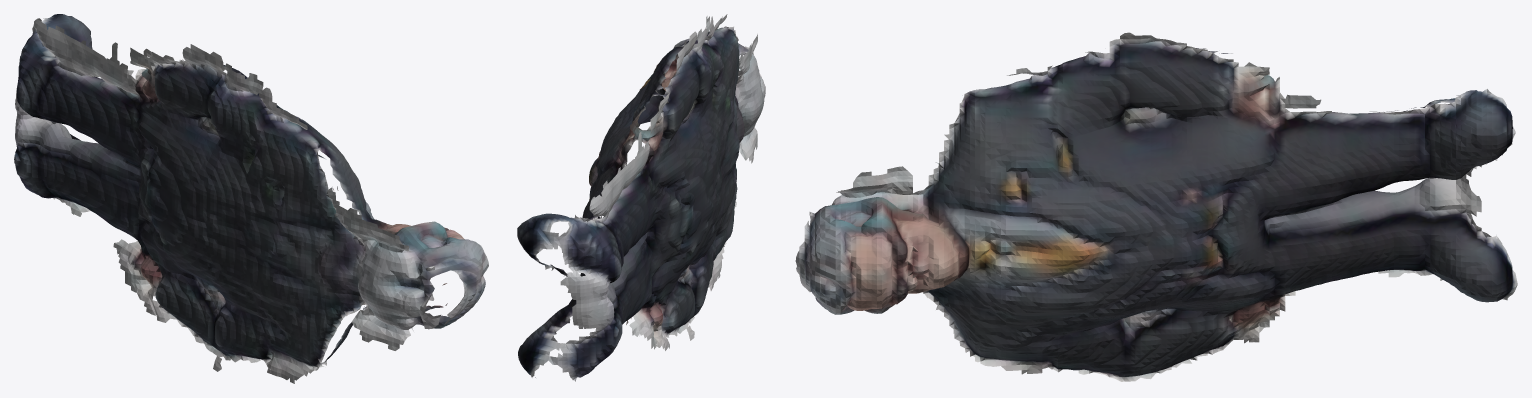
Rendered from dean.glb.
The picture shows the model from 3 angles, left to right: view 1: azimuth 30°, elevation 25°; view 2: azimuth 150°, elevation 25°; view 3: azimuth 270°, elevation 25°; orthographic projection. The views are drawn at different scales.
Parts seen in each view (by area): view 1: world; view 2: world; view 3: world.
Boxes of the visible parts, left/top/right/bottom form: world: left=14, top=14, right=488, bottom=383; world: left=517, top=14, right=765, bottom=381; world: left=795, top=32, right=1517, bottom=381.
Bounding box in the file's own units: 0.3728 × 0.5391 × 0.9551.
